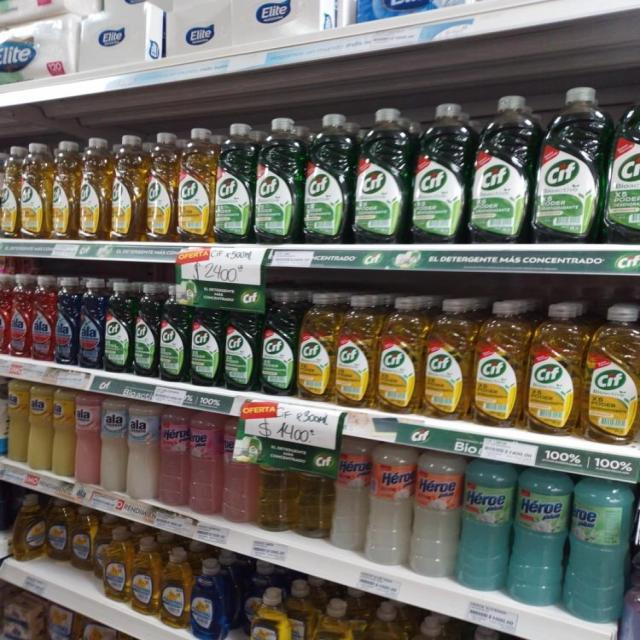ala_conc_azul: (79, 277, 104, 370), (56, 276, 78, 366)
ala_conc_rojo: (32, 274, 54, 362), (9, 273, 31, 358), (0, 272, 9, 356)
ala_crem_amarillo: (28, 383, 52, 472), (52, 387, 74, 479), (6, 378, 27, 464), (0, 376, 7, 459)
ala_crem_blanco: (127, 402, 158, 500), (100, 397, 126, 493)
ala_crem_rosado: (75, 391, 100, 487)
cif_conc_bot_amarilla: (584, 303, 640, 445), (527, 301, 582, 436), (474, 299, 525, 429), (424, 298, 472, 421), (378, 296, 423, 414), (336, 294, 377, 409), (178, 128, 214, 244), (298, 292, 335, 402), (112, 133, 145, 243), (146, 132, 176, 243), (79, 136, 110, 242), (20, 142, 50, 241), (52, 139, 78, 241), (1, 146, 20, 240)
cif_conc_botella_verde: (535, 86, 604, 244), (471, 94, 533, 245), (412, 101, 468, 245), (355, 107, 409, 246), (303, 112, 352, 245), (254, 117, 302, 245), (606, 78, 640, 244), (215, 121, 253, 244), (261, 290, 297, 396), (224, 302, 260, 392), (160, 283, 189, 383), (191, 303, 222, 388), (104, 280, 132, 374), (134, 281, 158, 379)
heroe: (568, 474, 630, 624), (512, 466, 567, 608), (460, 458, 510, 594), (412, 449, 459, 579), (368, 442, 411, 568), (332, 438, 367, 556), (189, 410, 221, 516), (158, 406, 188, 508)
magistral_con_amarillo: (160, 547, 189, 629), (13, 493, 46, 562), (130, 535, 158, 616), (248, 586, 289, 640), (102, 526, 130, 604), (352, 600, 401, 640), (309, 597, 352, 640), (71, 505, 95, 571), (47, 498, 70, 562), (399, 614, 454, 640)
magistral_con_azul: (190, 556, 227, 640)
